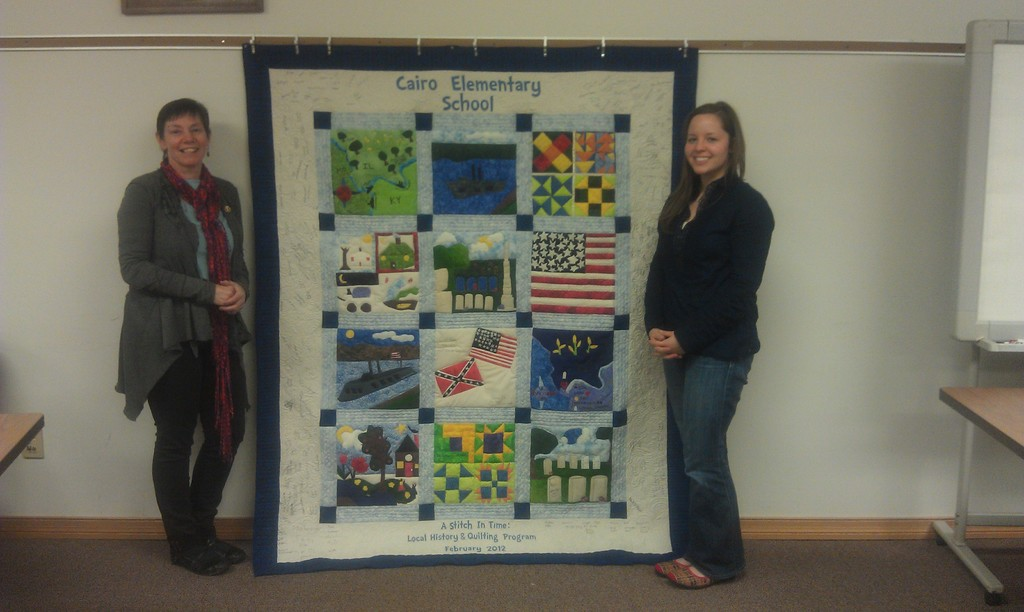Footwear: (179, 537, 217, 574), (666, 563, 707, 587), (218, 531, 244, 565), (657, 558, 677, 587)
